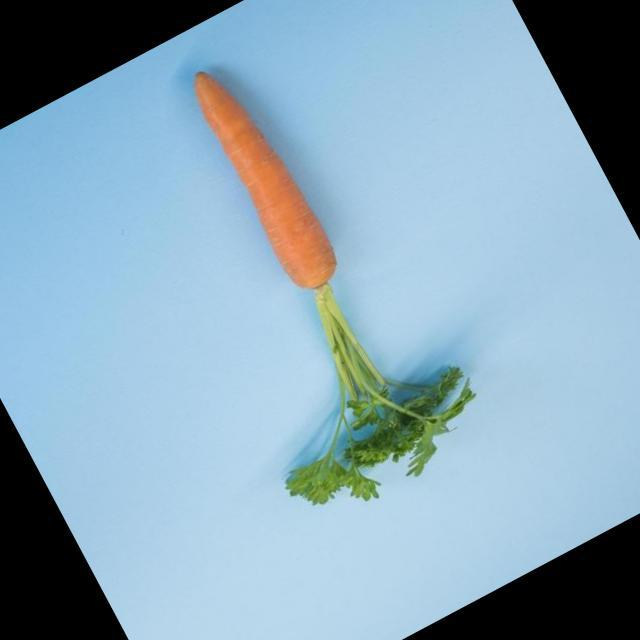carrot: (195, 74, 336, 288)
